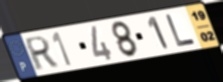1: (147, 15, 171, 51), (51, 31, 74, 68)
4: (91, 24, 114, 62)
8: (110, 20, 141, 59)
L: (164, 13, 198, 49)
R: (23, 34, 59, 73)
